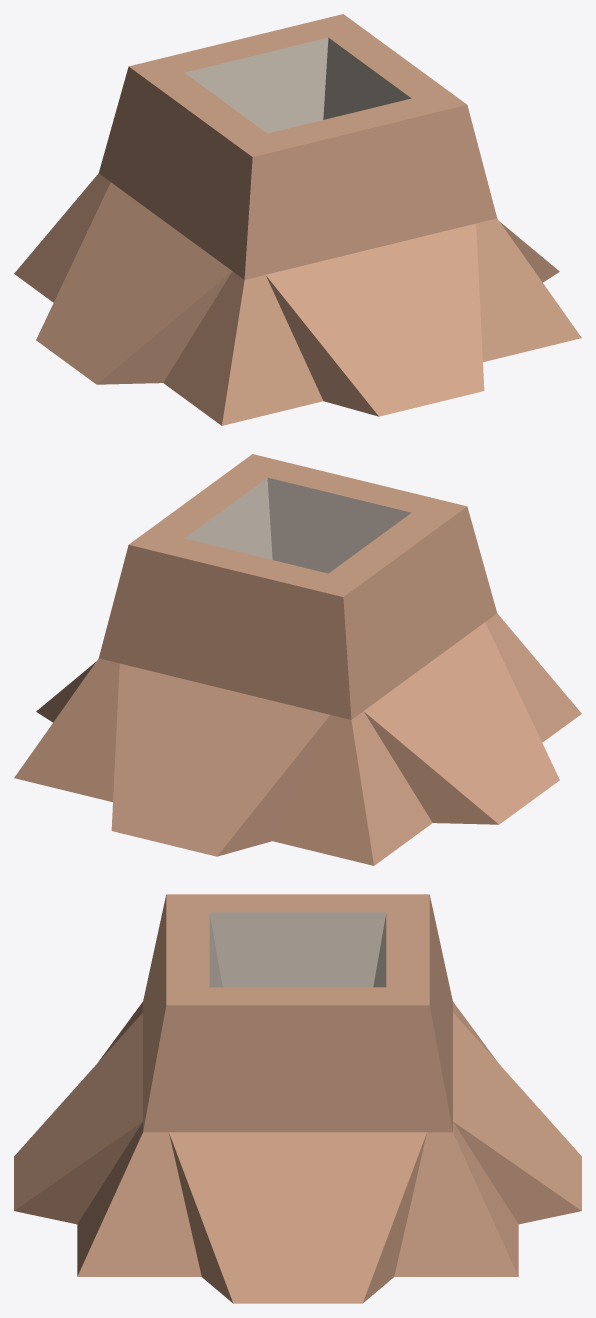
The model's file is stump_squareDetailed.glb.
3 views of the same model, one above another, from view 1: azimuth 30°, elevation 25°; view 2: azimuth 150°, elevation 25°; view 3: azimuth 270°, elevation 25° (orthographic). The views are drawn at different scales.
Visible parts, largest first — view 1: stump_squareDetailed; view 2: stump_squareDetailed; view 3: stump_squareDetailed.
Boxes of the visible parts, bbox=[...] form: stump_squareDetailed: bbox=[14, 14, 581, 425]; stump_squareDetailed: bbox=[14, 454, 581, 865]; stump_squareDetailed: bbox=[14, 894, 581, 1303].
Bounding box in the file's own units: 0.44 × 0.2 × 0.44.
